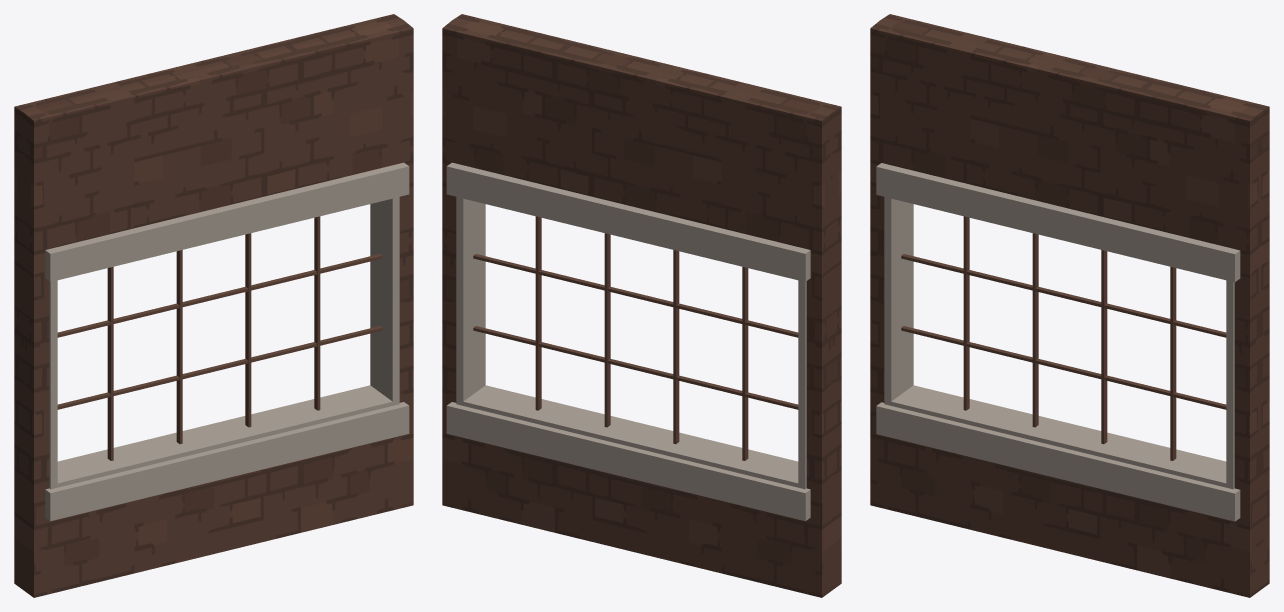
File: SM_Bld_Base_Wall_Window_Bars_02.obj
The picture shows the model from 3 angles, left to right: view 1: azimuth 30°, elevation 25°; view 2: azimuth 150°, elevation 25°; view 3: azimuth 330°, elevation 25°; orthographic projection.
Visible parts, largest first — view 1: SM_Bld_Base_Wall_Window_Bars_02_4, SM_Bld_Base_Wall_Window_Bars_02_1, SM_Bld_Base_Wall_Window_Bars_02_2, SM_Bld_Base_Wall_Window_Bars_02_0, SM_Bld_Base_Wall_Window_Bars_02_3; view 2: SM_Bld_Base_Wall_Window_Bars_02_3, SM_Bld_Base_Wall_Window_Bars_02_1, SM_Bld_Base_Wall_Window_Bars_02_2, SM_Bld_Base_Wall_Window_Bars_02_0, SM_Bld_Base_Wall_Window_Bars_02_4; view 3: SM_Bld_Base_Wall_Window_Bars_02_4, SM_Bld_Base_Wall_Window_Bars_02_1, SM_Bld_Base_Wall_Window_Bars_02_2, SM_Bld_Base_Wall_Window_Bars_02_0, SM_Bld_Base_Wall_Window_Bars_02_3.
Part boxes in pixels (bbox=[...]): SM_Bld_Base_Wall_Window_Bars_02_4: bbox=[24, 20, 413, 597]; SM_Bld_Base_Wall_Window_Bars_02_1: bbox=[45, 162, 409, 521]; SM_Bld_Base_Wall_Window_Bars_02_2: bbox=[49, 197, 399, 489]; SM_Bld_Base_Wall_Window_Bars_02_0: bbox=[57, 216, 382, 460]; SM_Bld_Base_Wall_Window_Bars_02_3: bbox=[14, 14, 403, 590]; SM_Bld_Base_Wall_Window_Bars_02_3: bbox=[442, 20, 831, 597]; SM_Bld_Base_Wall_Window_Bars_02_1: bbox=[446, 162, 810, 521]; SM_Bld_Base_Wall_Window_Bars_02_2: bbox=[456, 197, 806, 489]; SM_Bld_Base_Wall_Window_Bars_02_0: bbox=[473, 216, 798, 460]; SM_Bld_Base_Wall_Window_Bars_02_4: bbox=[452, 14, 841, 590]; SM_Bld_Base_Wall_Window_Bars_02_4: bbox=[870, 20, 1259, 597]; SM_Bld_Base_Wall_Window_Bars_02_1: bbox=[876, 163, 1240, 521]; SM_Bld_Base_Wall_Window_Bars_02_2: bbox=[884, 197, 1234, 489]; SM_Bld_Base_Wall_Window_Bars_02_0: bbox=[901, 216, 1226, 460]; SM_Bld_Base_Wall_Window_Bars_02_3: bbox=[880, 14, 1269, 590].
Size of the model in its own units: 2.5 by 3.01 by 0.3447.
5 materials, 5 textured.
